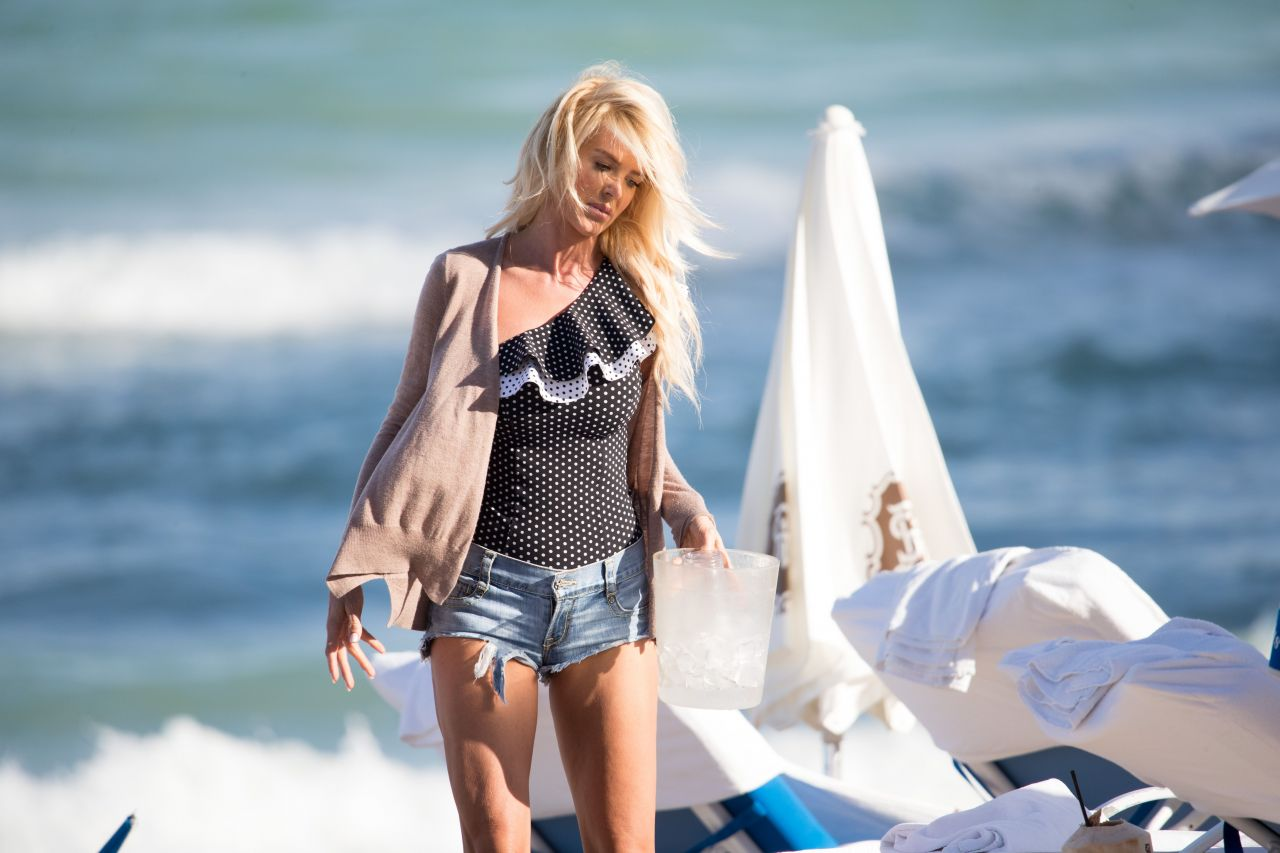Person: (318, 56, 744, 853)
